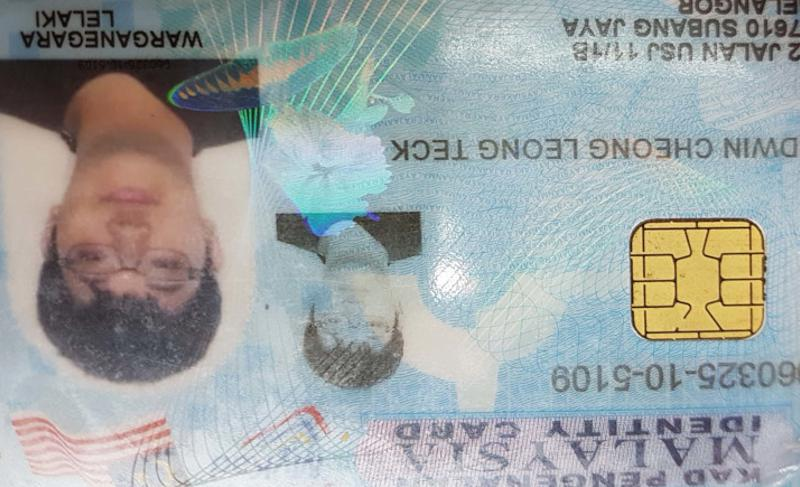hologramB: (258, 75, 393, 210)
